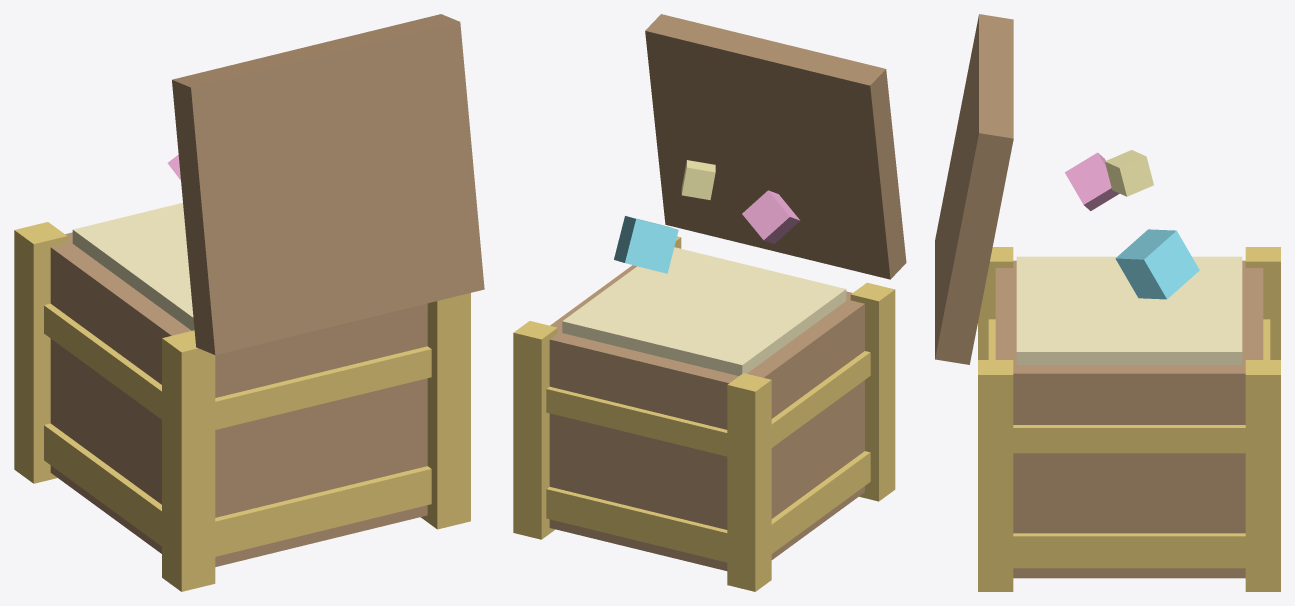
File: ElementCrateOpen.fbx
The picture shows the model from 3 angles, left to right: view 1: azimuth 30°, elevation 25°; view 2: azimuth 150°, elevation 25°; view 3: azimuth 270°, elevation 25°; orthographic projection. The views are drawn at different scales.
Visible parts, largest first — view 1: Crate_Lid.001, Crate_Body.001, Crate_Trim.007, Crate_Trim.010, Crate_Trim.008, Crate_Trim.012, Crate_Trim.009, Crate_Glow; view 2: Crate_Lid.001, Crate_Body.001, Crate_Glow, Crate_Trim.007, Crate_Trim.009, Crate_Trim.008, Crate_Trim.011, Crate_Trim.010, Crate_Gem.001, Crate_Gem.002, Crate_Gem.003; view 3: Crate_Body.001, Crate_Glow, Crate_Lid.001, Crate_Trim.007, Crate_Trim.011, Crate_Trim.012, Crate_Trim.008, Crate_Gem.001, Crate_Trim.009, Crate_Gem.002, Crate_Gem.003, Crate_Trim.010.
Part boxes in pixels (bbox=[...]): Crate_Lid.001: bbox=[172, 14, 484, 355]; Crate_Body.001: bbox=[50, 232, 427, 566]; Crate_Trim.007: bbox=[44, 423, 431, 556]; Crate_Trim.010: bbox=[162, 330, 215, 591]; Crate_Trim.008: bbox=[44, 303, 431, 429]; Crate_Trim.012: bbox=[420, 293, 470, 529]; Crate_Trim.009: bbox=[14, 222, 67, 483]; Crate_Glow: bbox=[72, 203, 194, 330]; Crate_Lid.001: bbox=[645, 14, 906, 279]; Crate_Body.001: bbox=[549, 265, 864, 570]; Crate_Glow: bbox=[562, 247, 846, 375]; Crate_Trim.007: bbox=[546, 451, 870, 562]; Crate_Trim.009: bbox=[727, 373, 771, 591]; Crate_Trim.008: bbox=[546, 351, 870, 456]; Crate_Trim.011: bbox=[513, 321, 557, 539]; Crate_Trim.010: bbox=[850, 282, 895, 501]; Crate_Gem.001: bbox=[614, 216, 678, 273]; Crate_Gem.002: bbox=[742, 190, 800, 243]; Crate_Gem.003: bbox=[681, 160, 715, 200]; Crate_Body.001: bbox=[995, 260, 1263, 578]; Crate_Glow: bbox=[1016, 256, 1242, 364]; Crate_Lid.001: bbox=[935, 14, 1013, 364]; Crate_Trim.007: bbox=[1013, 533, 1245, 568]; Crate_Trim.011: bbox=[1245, 360, 1280, 591]; Crate_Trim.012: bbox=[978, 360, 1013, 591]; Crate_Trim.008: bbox=[988, 319, 1270, 453]; Crate_Gem.001: bbox=[1115, 229, 1199, 299]; Crate_Trim.009: bbox=[1245, 247, 1280, 359]; Crate_Gem.002: bbox=[1065, 152, 1119, 210]; Crate_Gem.003: bbox=[1105, 150, 1153, 196]; Crate_Trim.010: bbox=[978, 247, 1013, 359].
Bounding box in the file's own units: 120 × 199 × 137.
